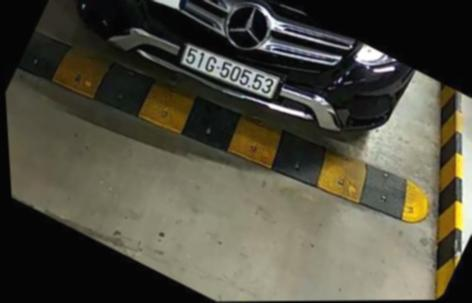License_Plate: (179, 41, 298, 116)
